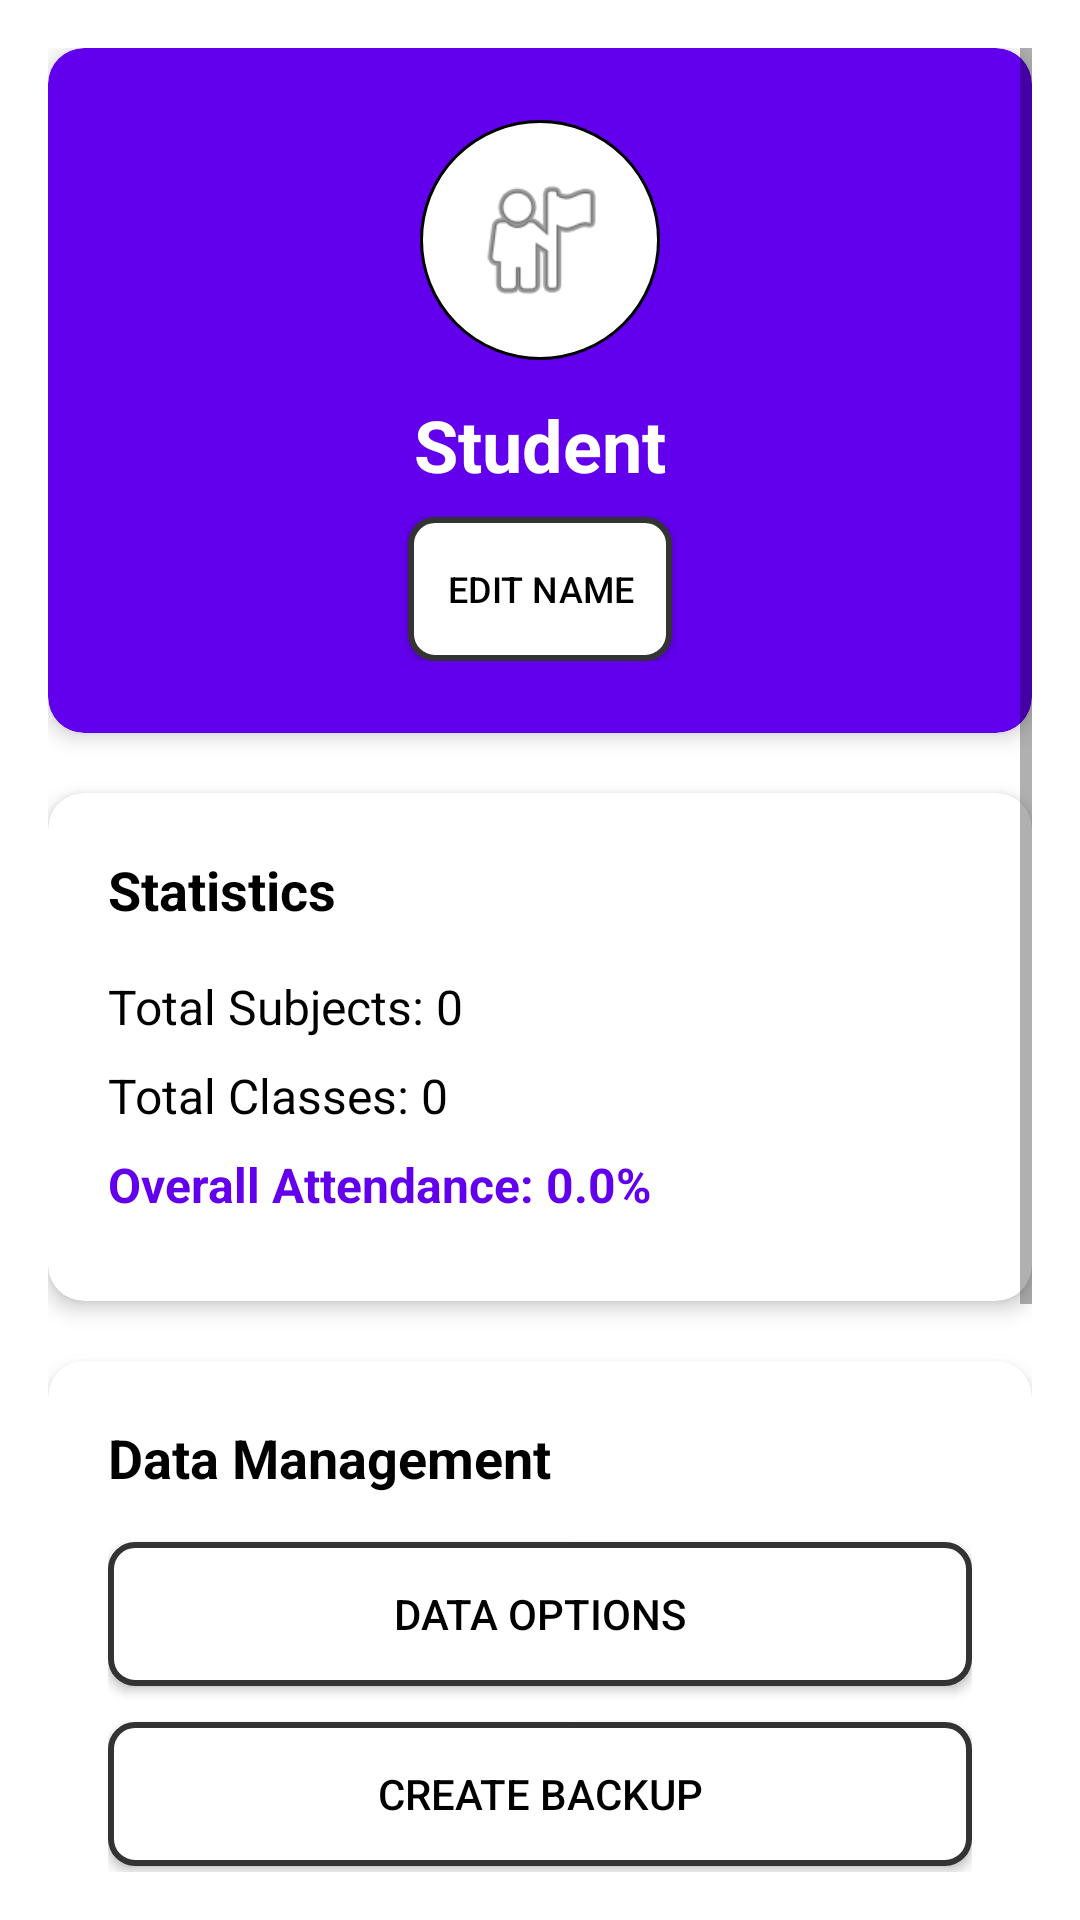

Screen size 1080px×1920px. Icon name, then its center in pixels as (x,y):
myplaces: (540,240)
